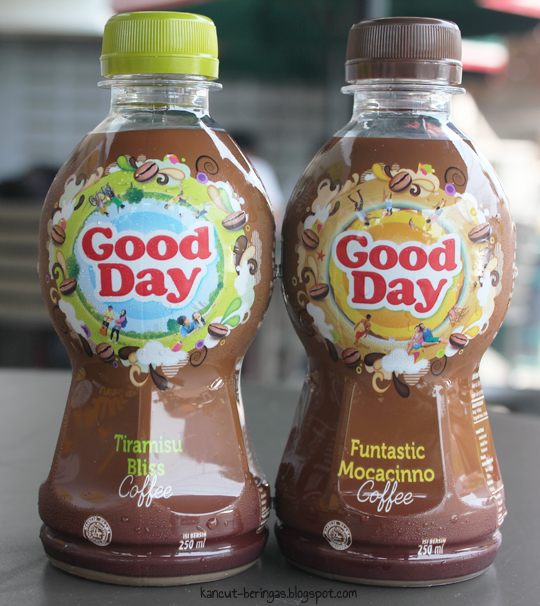botol: (38, 3, 275, 593), (285, 2, 517, 592)
